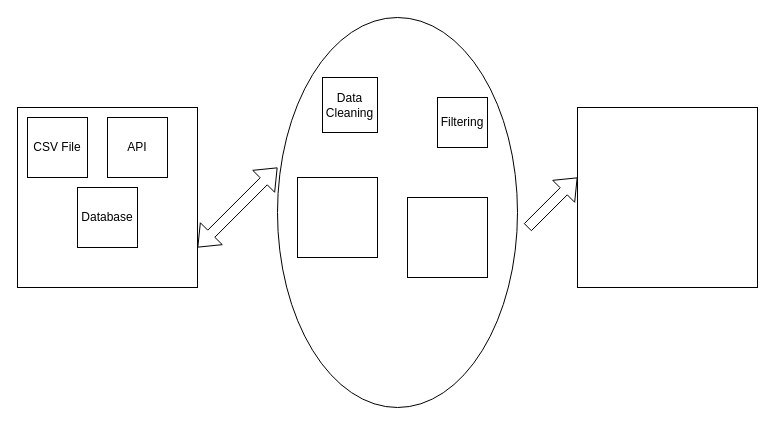
The diagram is 775 pixels wide and 425 high, and some of its shapes have lost their labels. Here are the shapes that lost their labels. From the top down, the centre of each, then its label:
At point 337,217: "Aggregation".
At point 667,197: "Database/Datawarehouse".
At point 447,237: "Column Renaming".
